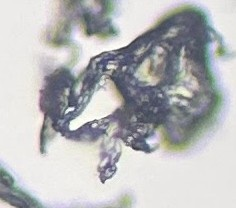microplastic: (39, 3, 236, 183), (1, 160, 134, 208), (37, 1, 117, 71)
